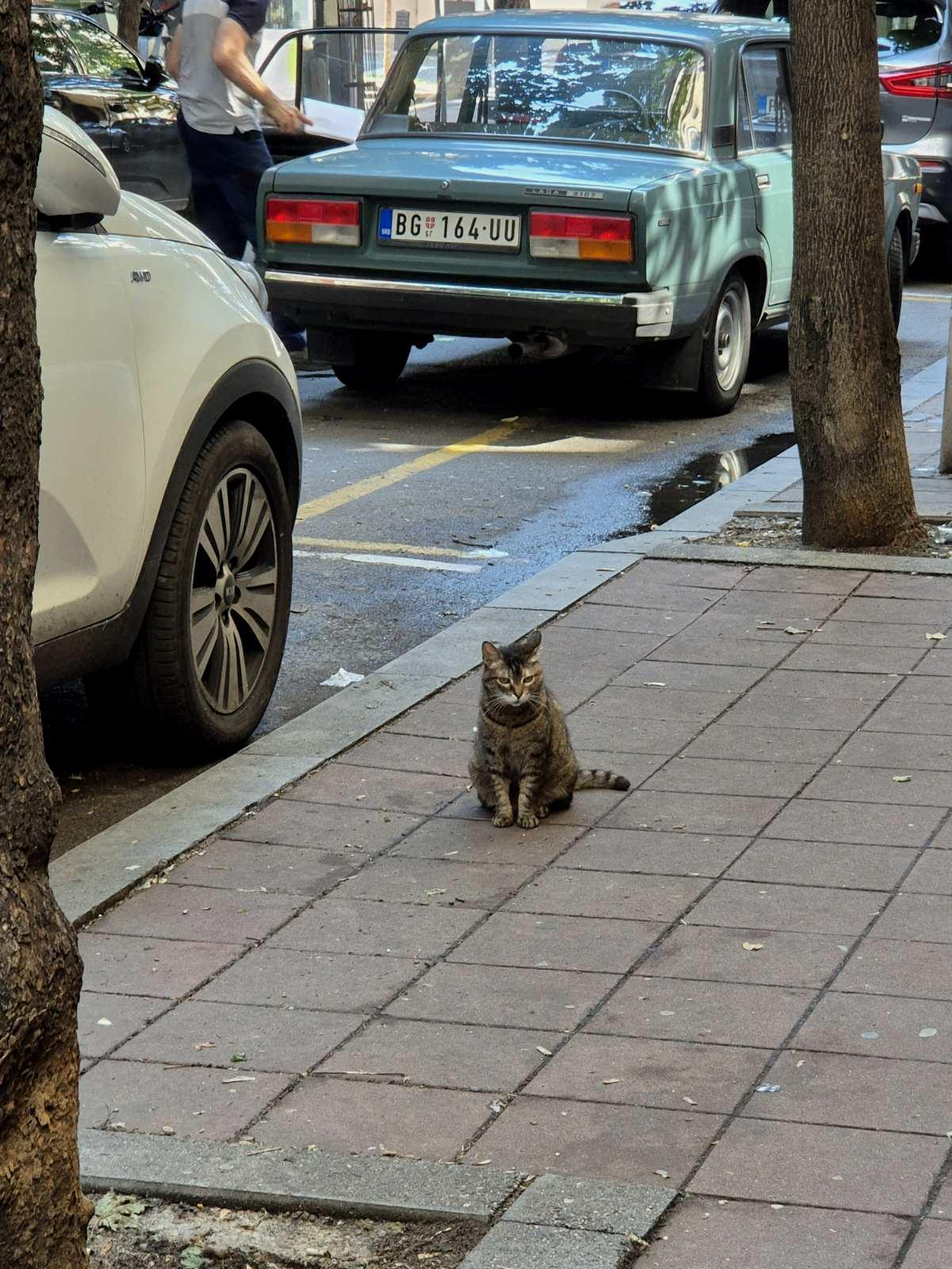macka: (465, 628, 630, 829)
